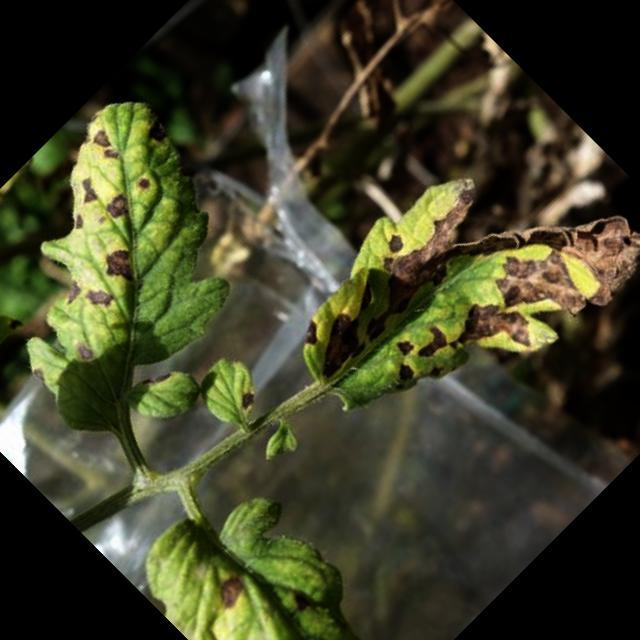Tomato Septoria spot leaf: (264, 86, 640, 495), (0, 77, 319, 477), (120, 456, 434, 640)
